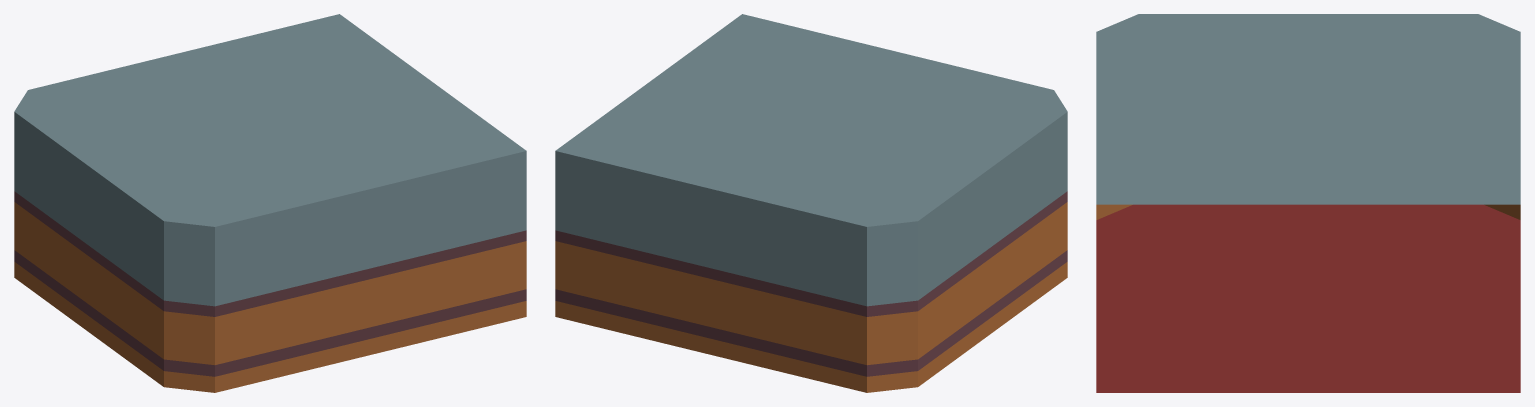
Rendered from Room_Bedroom.fbx.
3 views of the same model, side by side, from view 1: azimuth 30°, elevation 25°; view 2: azimuth 150°, elevation 25°; view 3: azimuth 270°, elevation 25° (orthographic). The views are drawn at different scales.
Visible parts, largest first — view 1: pCube1; view 2: pCube1; view 3: pCube1.
Boxes of the visible parts, bbox=[...] form: pCube1: bbox=[14, 14, 526, 392]; pCube1: bbox=[555, 14, 1067, 392]; pCube1: bbox=[1096, 14, 1520, 392].
Size of the model in its own units: 7.51 by 3.46 by 7.07.
